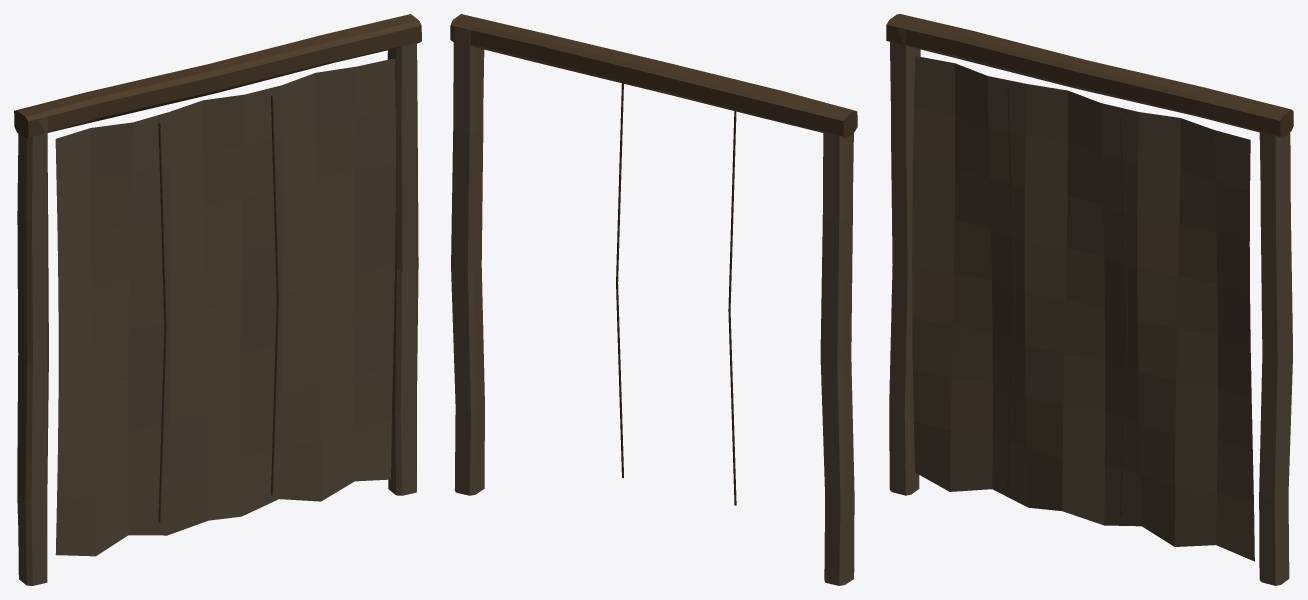
File: hide-curtain-closed.glb
The picture shows the model from 3 angles, left to right: view 1: azimuth 30°, elevation 25°; view 2: azimuth 150°, elevation 25°; view 3: azimuth 330°, elevation 25°; orthographic projection.
Parts seen in each view (by area): view 1: Cloth, Wood; view 2: Wood; view 3: Cloth, Wood.
Boxes of the visible parts, x1,y1,x2,y2 form: Cloth: (55,58,395,556); Wood: (14,14,421,585); Wood: (450,14,857,585); Cloth: (912,56,1254,561); Wood: (886,14,1293,585).
Bounding box in the file's own units: 1.96 × 2.24 × 0.17.
